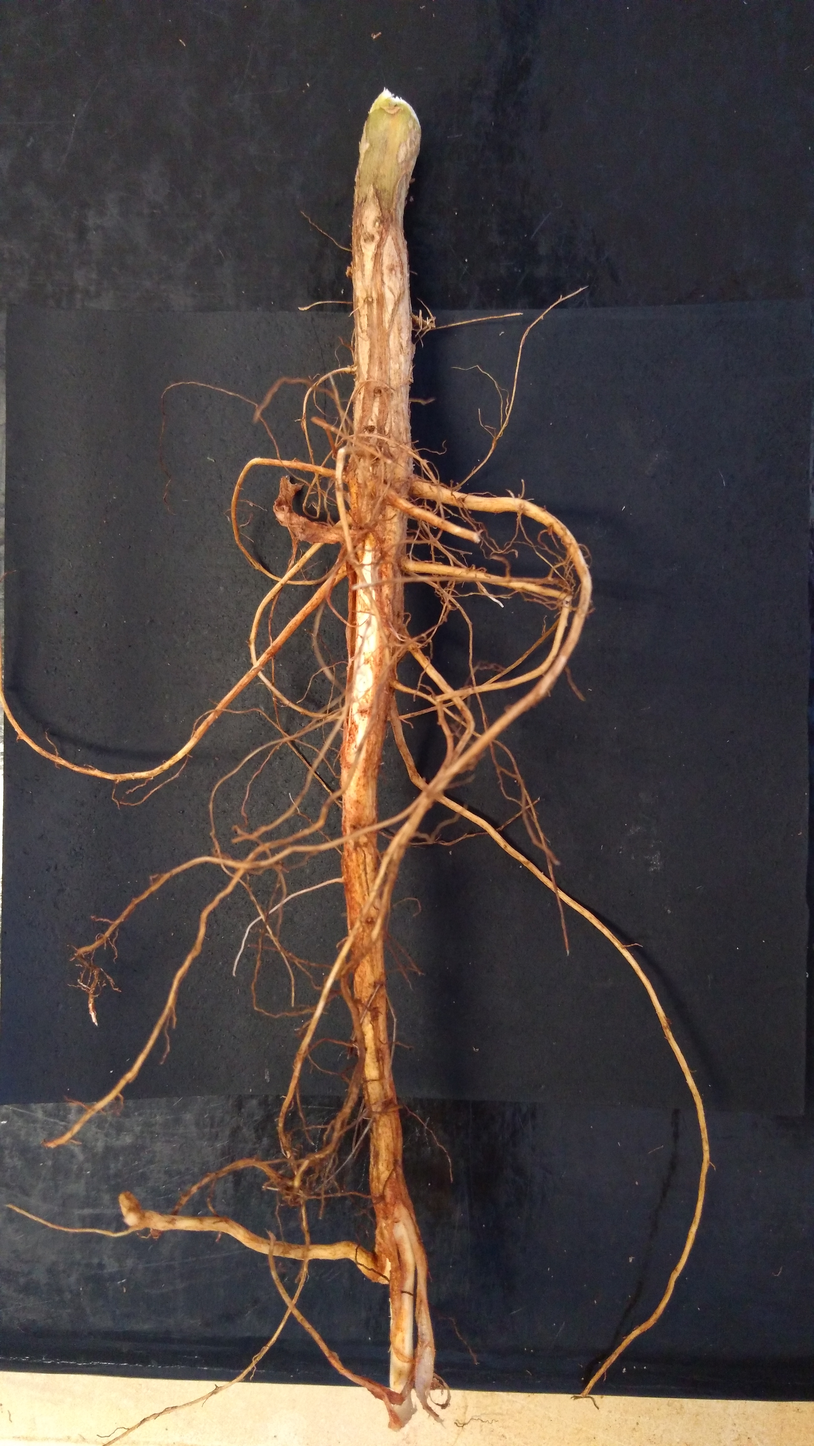nodule: (377, 457, 412, 490), (278, 1175, 312, 1207), (355, 458, 373, 484), (429, 1377, 440, 1391), (345, 265, 353, 278)
